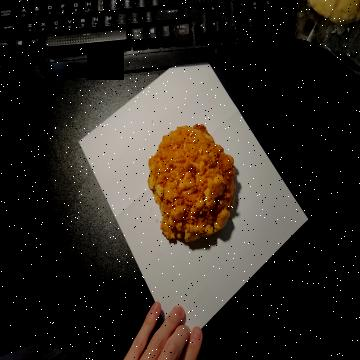soboru_bread: (147, 123, 238, 244)
